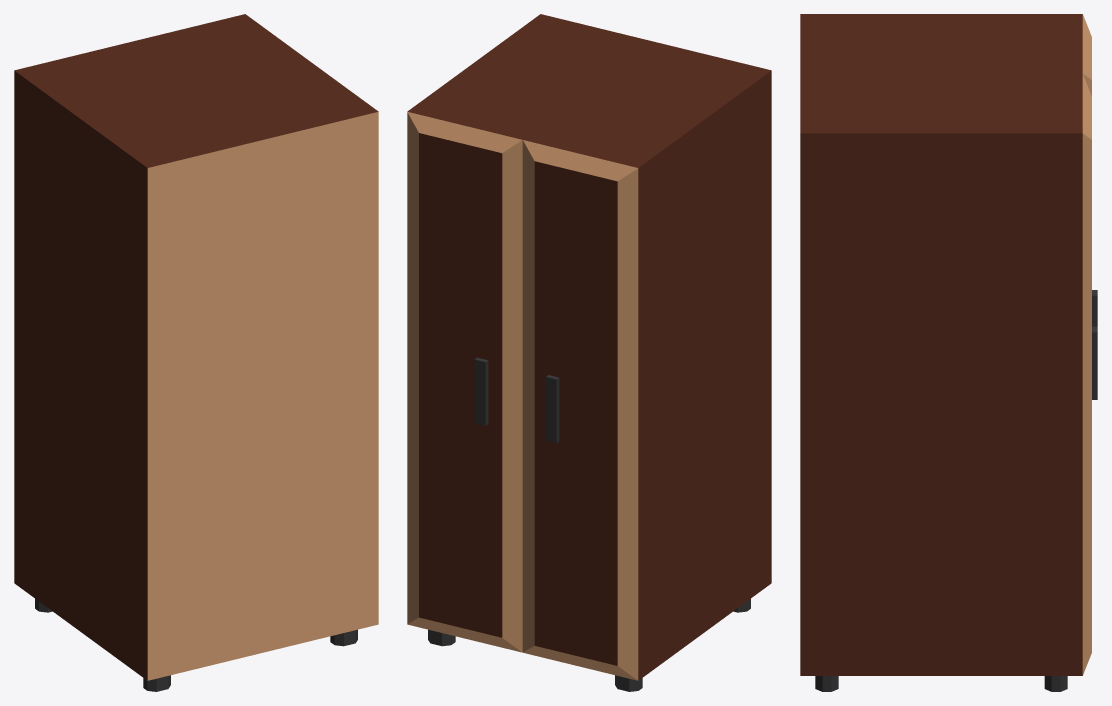
Rendered from Closet.fbx.
3 views of the same model, side by side, from view 1: azimuth 30°, elevation 25°; view 2: azimuth 150°, elevation 25°; view 3: azimuth 270°, elevation 25° (orthographic). The views are drawn at different scales.
Parts seen in each view (by area): view 1: ClosetMain; view 2: ClosetMain, ClosetDoor2, ClosetDoor1; view 3: ClosetMain, ClosetDoor1, ClosetDoor2.
Part boxes in pixels (x1,y1,x2,y2): ClosetMain: (14, 14, 378, 691); ClosetMain: (407, 14, 771, 691); ClosetDoor2: (522, 140, 638, 680); ClosetDoor1: (407, 112, 522, 652); ClosetMain: (800, 14, 1082, 691); ClosetDoor1: (1082, 74, 1097, 675); ClosetDoor2: (1082, 14, 1097, 326).
Bounding box in the file's own units: 0.802 × 0.844 × 1.77.
